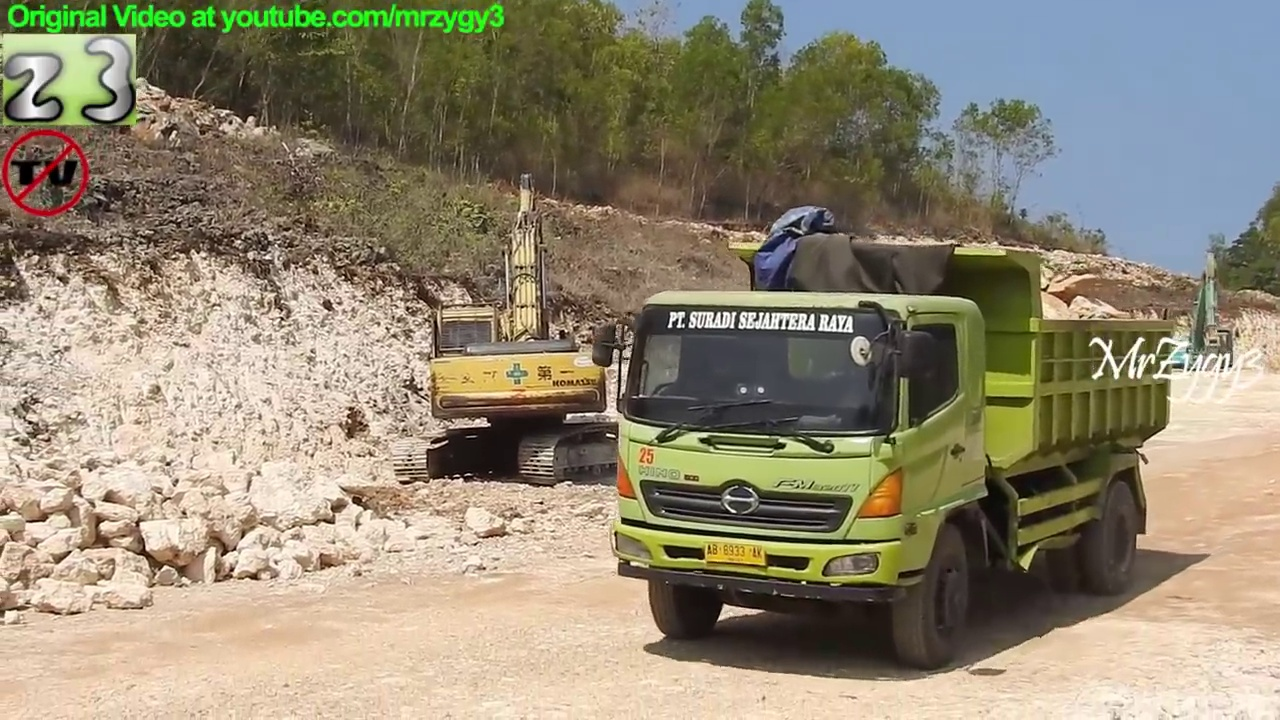excavator: (386, 167, 662, 492), (1143, 244, 1244, 383)
truck: (584, 219, 1189, 675)
